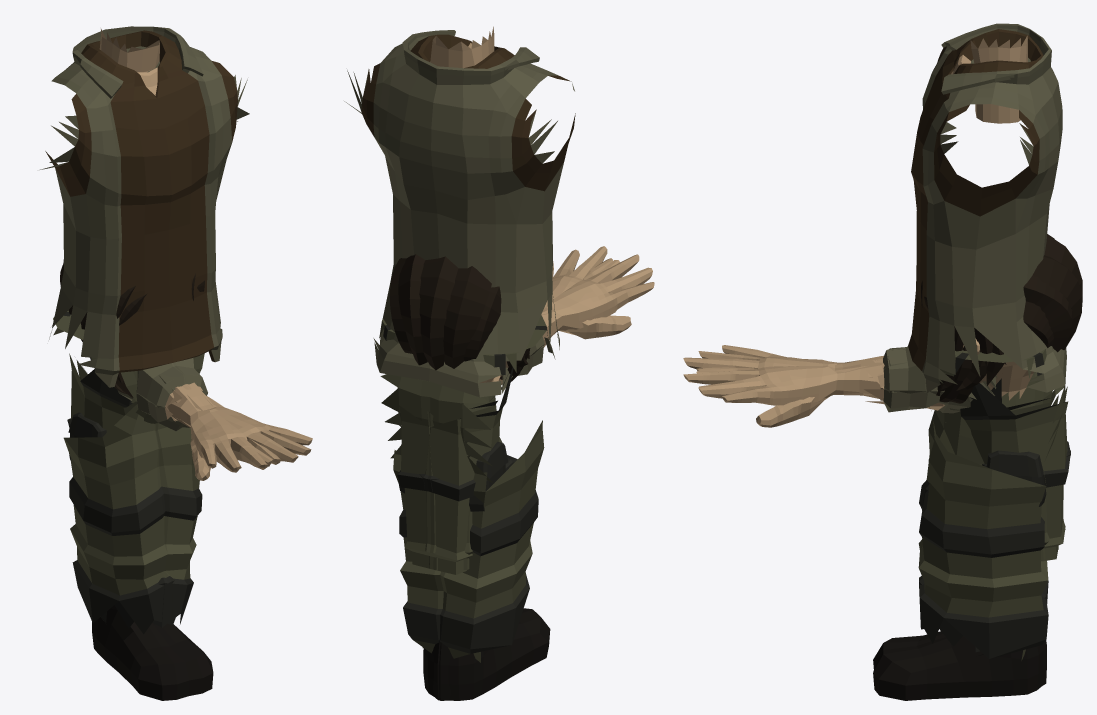
The model's file is sergeant.glb.
3 views of the same model, side by side, from view 1: azimuth 30°, elevation 25°; view 2: azimuth 150°, elevation 25°; view 3: azimuth 270°, elevation 25° (orthographic). The views are drawn at different scales.
Visible parts, largest first — view 1: torso, thighL, thighR, shinR, shinL, foreR, foreL, upperR, upperL, head; view 2: torso, thighL, shinR, head, shinL, foreR, thighR, foreL; view 3: torso, thighR, shinL, head, shinR, foreL, foreR, thighL, upperR, upperL.
Boxes of the visible parts, x1,y1,x2,y2 form: torso: (40,26,249,423); thighL: (63,398,175,634); thighR: (101,420,202,628); shinR: (68,360,189,700); shinL: (67,353,213,695); foreR: (167,386,282,472); foreL: (172,382,312,480); upperR: (136,363,202,427); upperL: (117,358,207,430); head: (60,259,204,397); torso: (344,26,575,483); thighL: (422,403,544,658); shinR: (397,400,550,700); head: (389,254,530,383); shinL: (398,367,513,700); foreR: (493,254,654,384); thighR: (393,387,517,662); foreL: (499,246,631,384); torso: (908,23,1066,459); thighR: (918,419,1048,658); shinL: (873,378,1070,700); head: (921,234,1082,403); shinR: (873,383,1070,685); foreL: (683,359,884,405); foreR: (683,345,944,427); thighL: (918,372,1057,660); upperR: (864,346,997,413); upperL: (873,347,995,410).
Size of the model in its own units: 0.3751 by 1.1 by 0.6081.
